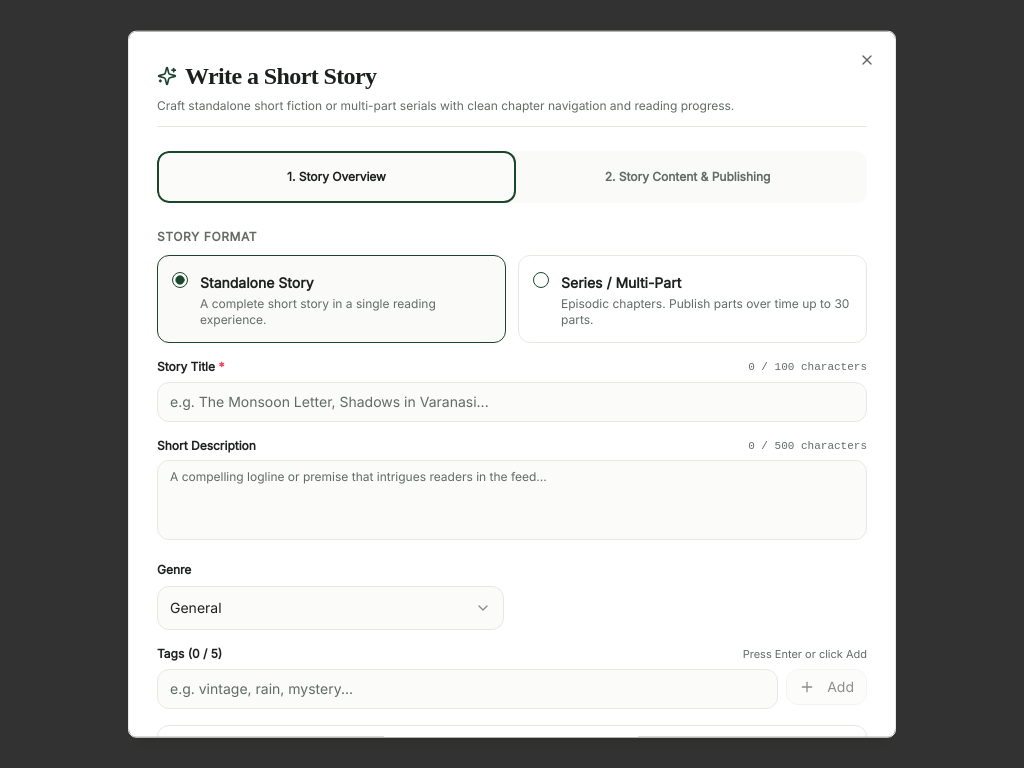
Test: StoryEditorDialog Component › allows switching to Series format and adding multiple chapters
The image size is (1024, 768).
// Switch to series
Click the text "Series / Multi-Part" at (621, 282), box [561, 274, 681, 291]
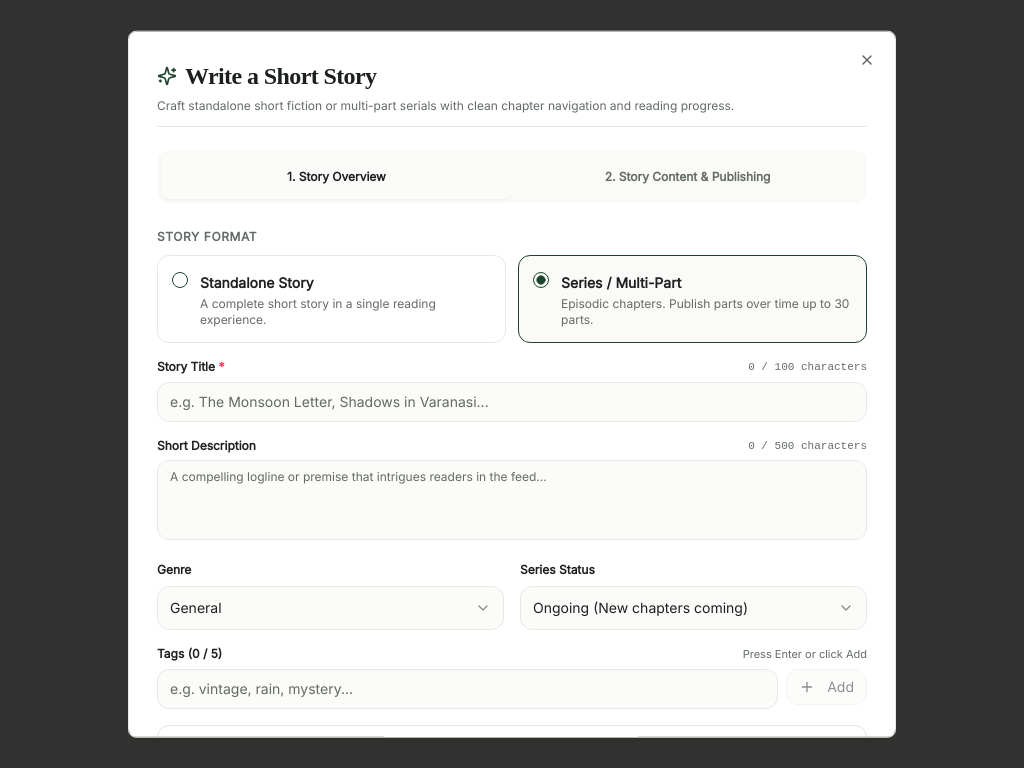
// Fill title
Type "Tales of the Old Silk Route" into the field with placeholder "e.g. The Monsoon Letter, Shadows in Varanasi..." at (512, 401), box [157, 381, 867, 421]
(page scrolled)
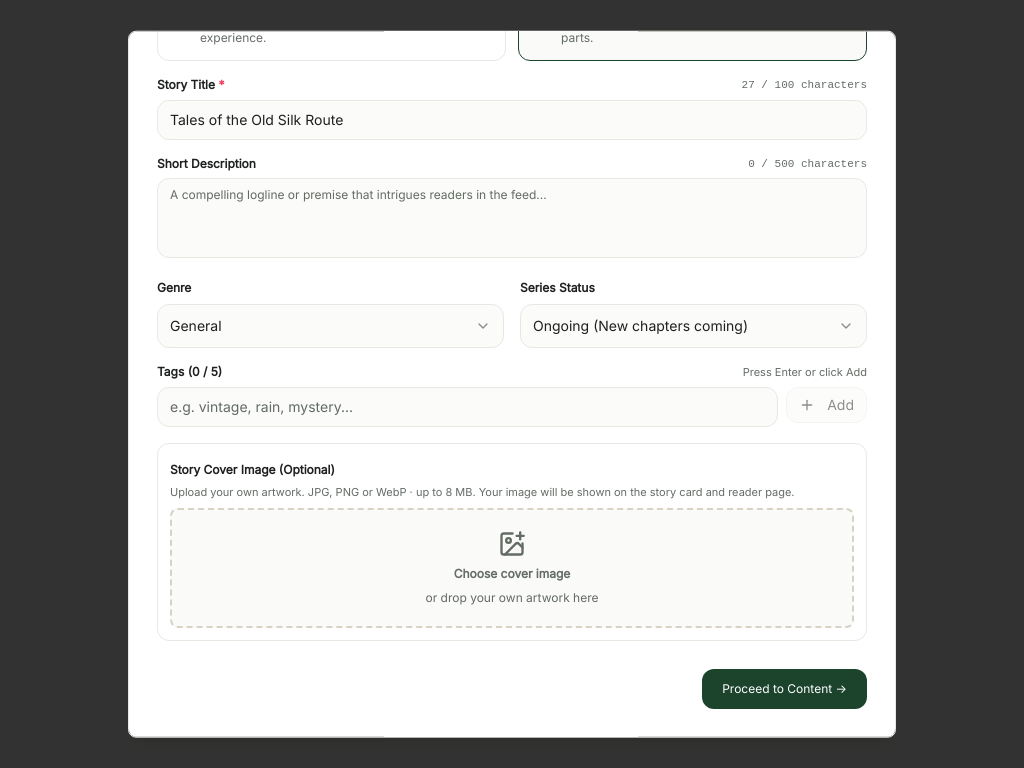
// Proceed to Content
Click the button "Proceed to Content →" at (785, 689), box [702, 669, 867, 709]
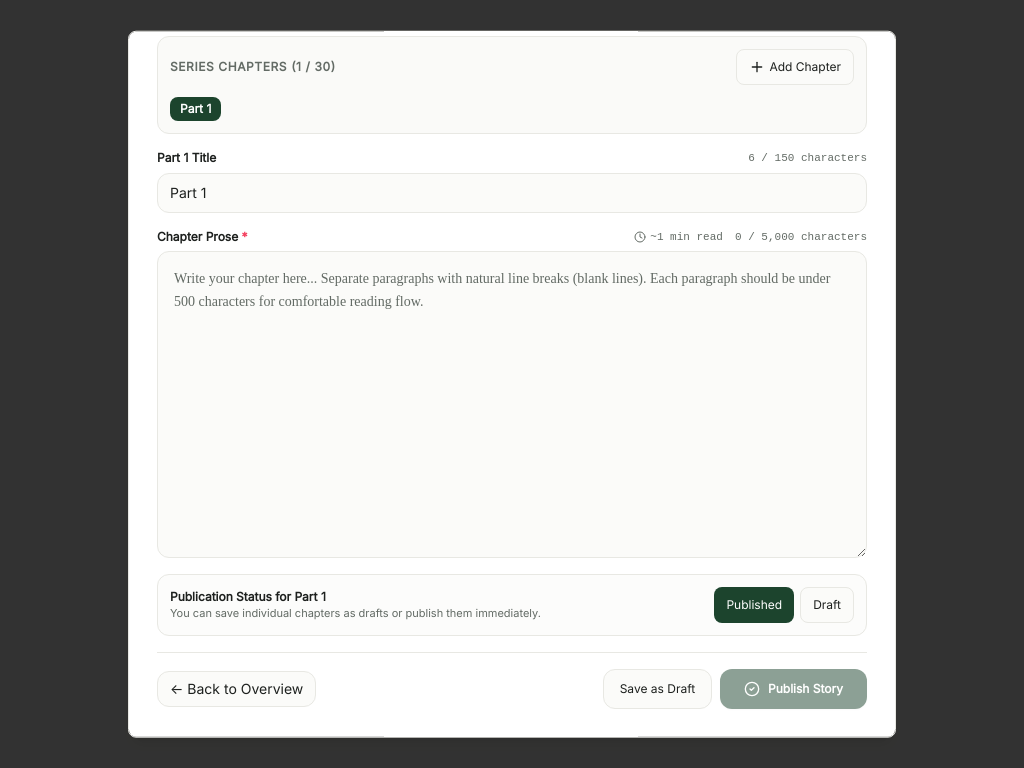
Check: the text "Series Chapters (1 / 30)" is shown, box [170, 59, 336, 75]
Check: the button "Add Chapter" is shown
// Click Add Chapter
Click the button "Add Chapter" at (795, 67), box [736, 49, 854, 85]
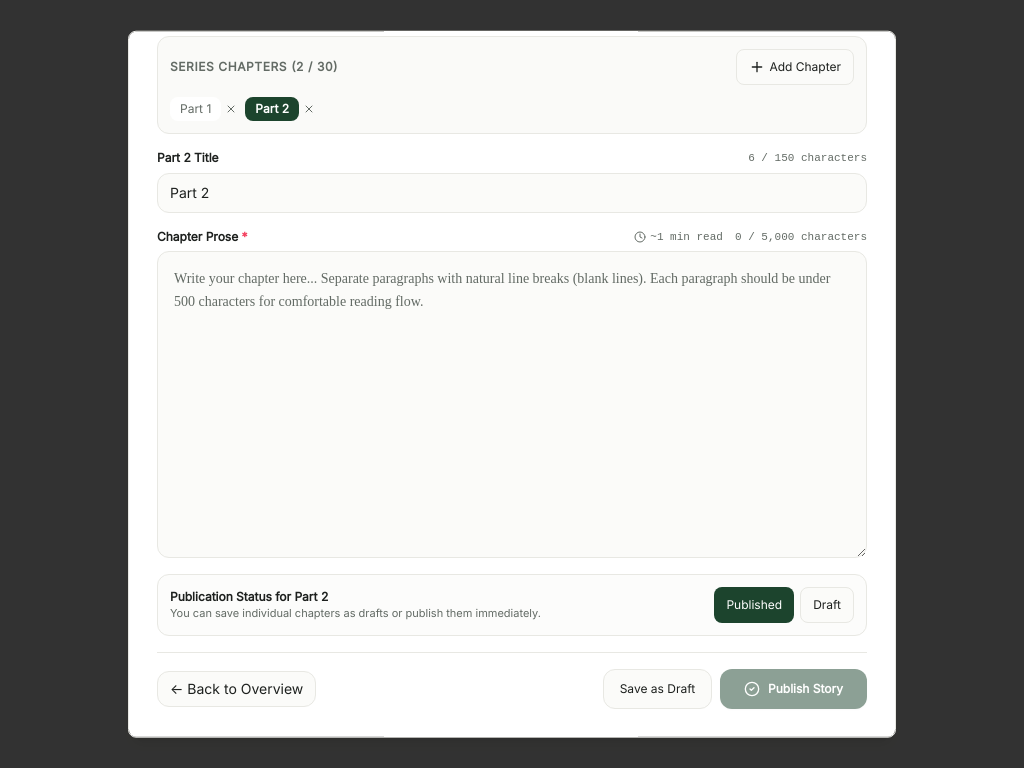
Check: the text "Part 2" is shown, box [255, 101, 289, 117]
